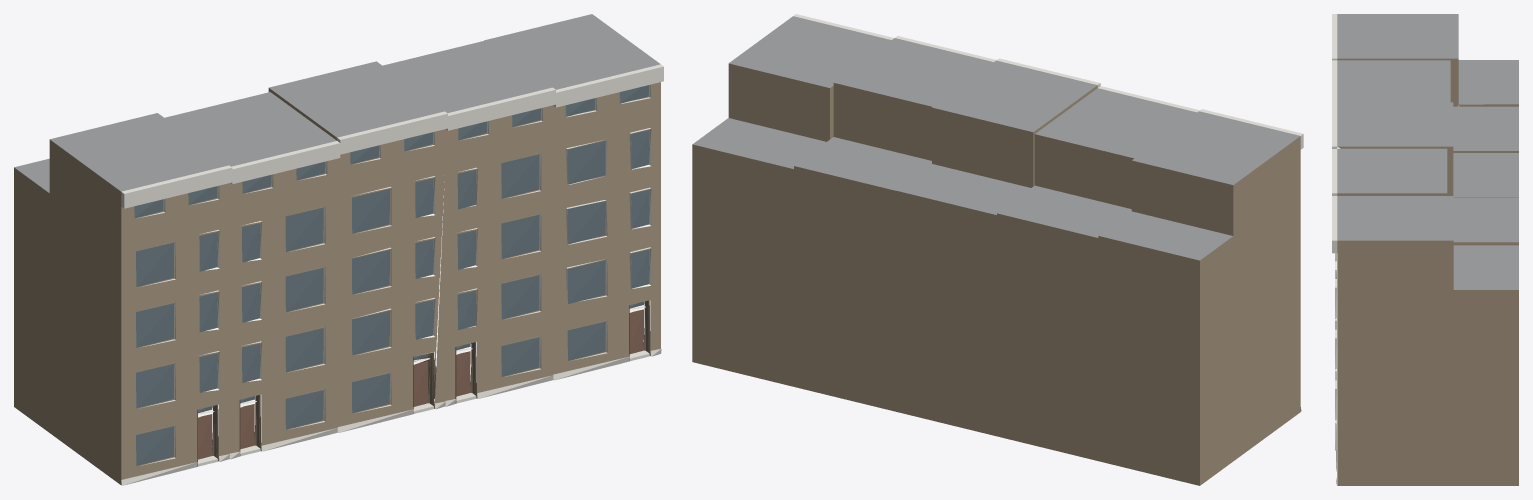
The model's file is chunk-face-leijnsen-3-31-r1.lod2.glb.
The picture shows the model from 3 angles, left to right: view 1: azimuth 30°, elevation 25°; view 2: azimuth 150°, elevation 25°; view 3: azimuth 270°, elevation 25°; orthographic projection. The views are drawn at different scales.
Visible parts, largest first — view 1: lod2; view 2: lod2; view 3: lod2.
Part boxes in pixels (x1,y1,x2,y2): lod2: [14, 14, 663, 485]; lod2: [692, 14, 1303, 485]; lod2: [1332, 14, 1518, 485].
Bounding box in the file's own units: 30.52 × 15.94 × 10.8.
